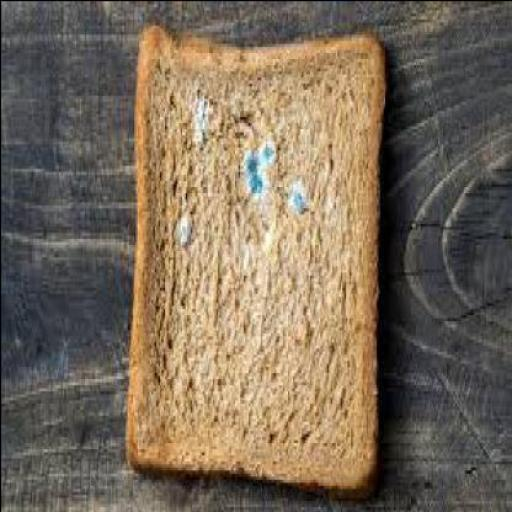biodegradable: (121, 18, 381, 494)
